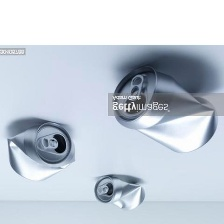can: (110, 65, 219, 155), (6, 119, 78, 184), (92, 173, 146, 211)
